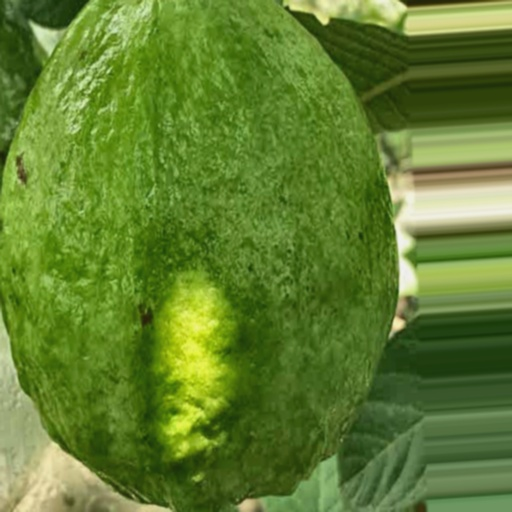guava: (49, 127, 493, 463)
